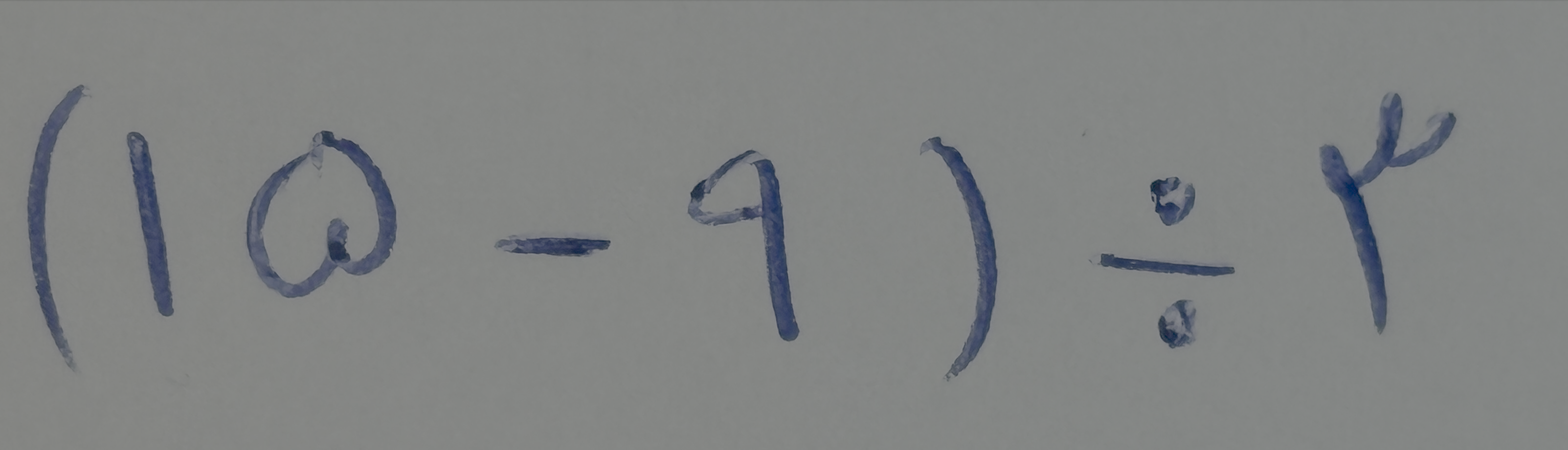character: (1318, 90, 1456, 338), (245, 129, 398, 299), (1089, 176, 1226, 348), (687, 149, 800, 342), (918, 136, 998, 381), (27, 84, 88, 375), (124, 131, 174, 317), (494, 232, 613, 257)
